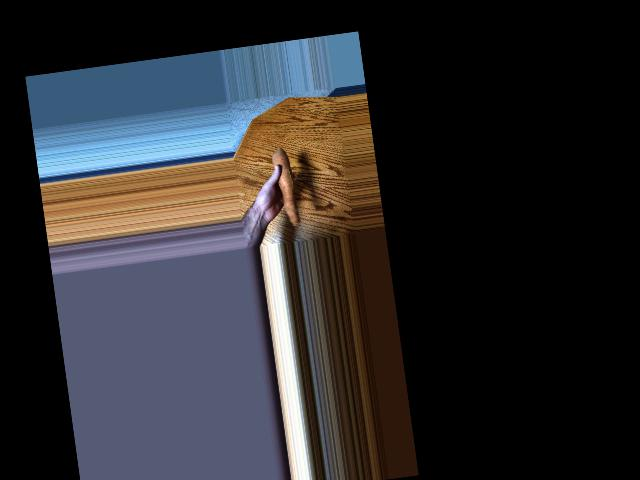sweet_potato: (273, 148, 302, 230)
